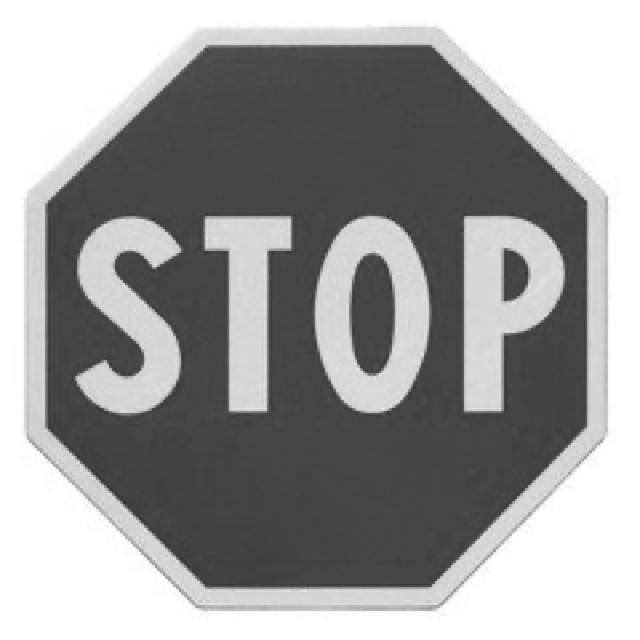Stop-signs: (29, 30, 608, 606)
